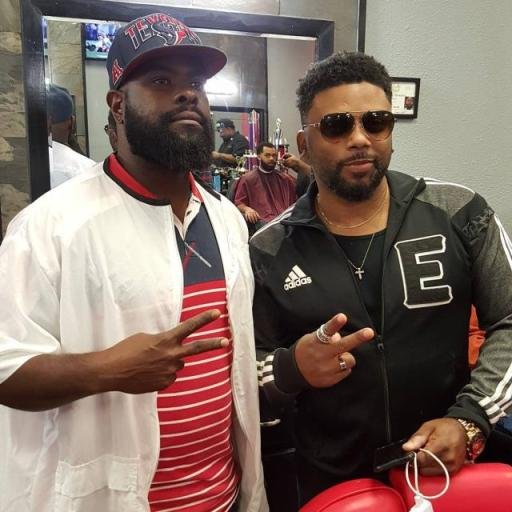Adidas: (282, 262, 312, 292)
